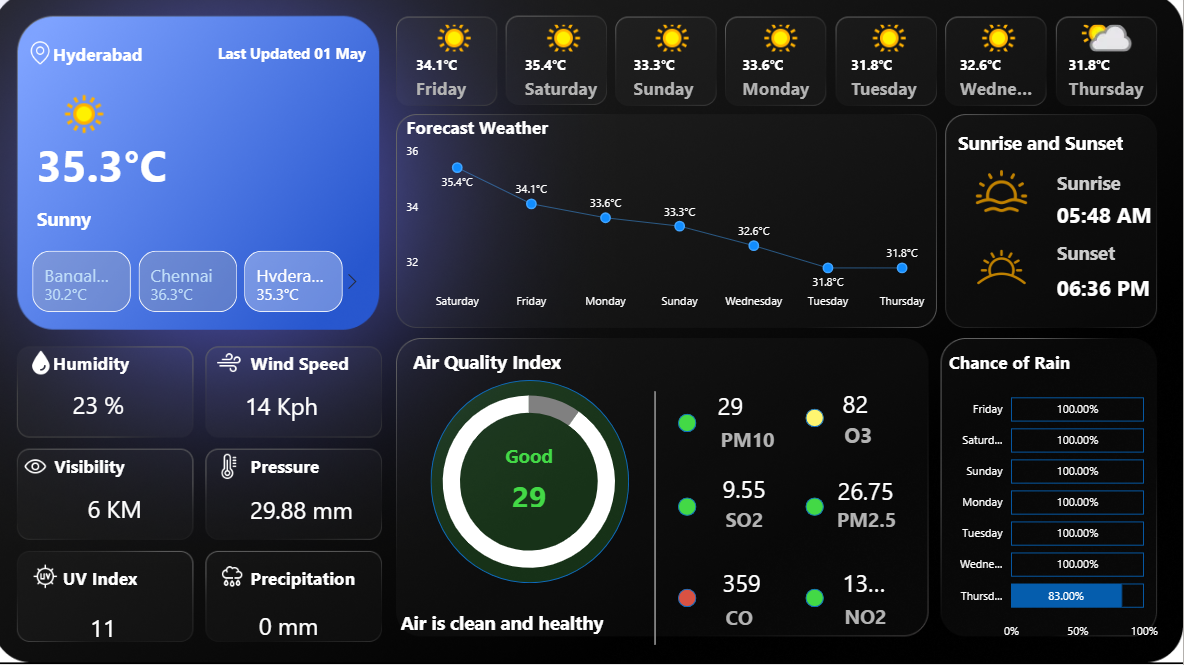

The dashboard page shown, as its layout file describes it:
{"tool":"powerbi","page":{"name":"Page 1","canvas":[1280,720],"ordinal":0},"visuals":[{"type":"advancedSlicerVisual","fields":{"Values":["Locations.location.name"],"Label":["_Measures.Curr_Temp_C"]},"box":[17.8,270.3,384.2,76.8],"z":0},{"type":"shape","box":[46.7,129,212.7,105.7],"z":1000},{"type":"shape","box":[46.7,211.3,391.1,59],"z":2000},{"type":"shape","box":[64.5,39.8,177,45.3],"z":3000},{"type":"shape","box":[241.5,38.4,196.2,45.3],"z":4000},{"type":"image","box":[35.7,49.4,28.8,24.7],"z":5000},{"type":"cardVisual","fields":{"Data":["Min(Current.current.condition.icon)"]},"box":[0,0,196.2,182.5],"z":6000},{"type":"image","box":[26.1,494,39.8,27.4],"z":7000},{"type":"shape","box":[65.9,484.4,196.2,45.3],"z":8000},{"type":"image","box":[35.7,381.5,30.2,27.4],"z":9000},{"type":"shape","box":[64.5,371.9,131.7,45.3],"z":10000},{"type":"image","box":[35.7,612,39.8,27.4],"z":11000},{"type":"image","box":[231.9,494,45.3,27.4],"z":12000},{"type":"image","box":[231.9,381.5,45.3,27.4],"z":13000},{"type":"image","box":[241.5,612,30.2,27.4],"z":14000},{"type":"shape","box":[277.2,371.9,131.7,45.3],"z":15000},{"type":"shape","box":[277.2,484.4,131.7,45.3],"z":16000},{"type":"shape","box":[277.2,603.8,131.7,45.3],"z":17000},{"type":"shape","box":[75.5,603.8,131.7,45.3],"z":18000},{"type":"cardVisual","fields":{"Data":["_Measures.Humidity with symbol"]},"box":[56.8,409.2,139.3,62.5],"z":19000},{"type":"cardVisual","fields":{"Data":["_Measures.Wind_Speed","_Measures.Wind_Speed"]},"box":[241.6,403.6,184.7,75.3],"z":20000},{"type":"cardVisual","fields":{"Data":["_Measures.Pressure with sym"]},"box":[247.4,521.8,172.1,61.9],"z":21000},{"type":"cardVisual","fields":{"Data":["_Measures.precip with sym"]},"box":[256.9,646.9,145.2,61.9],"z":22000},{"type":"cardVisual","fields":{"Data":["_Measures.vis with sym"]},"box":[73.3,519,131.6,64.3],"z":23000},{"type":"cardVisual","fields":{"Data":["Sum(Current.current.uv)"]},"box":[75.3,649.6,149.3,61.9],"z":24000},{"type":"advancedSlicerVisual","fields":{"Values":["Forecast_Day.Day_Name"]},"box":[437.4,25.2,821,104.3],"z":25000},{"type":"lineChart","title":"Forecast Weather","fields":{"Category":["Forecast_Day.Day_Name"],"Y":["Sum(Forecast_Day.forecast.forecastday.day.avgtemp_c)"]},"box":[439.1,129.5,575.4,218.7],"z":26000},{"type":"shape","box":[1038.1,136.3,188.4,45.4],"z":27000},{"type":"shape","box":[1143.9,200.5,116.7,70.7],"z":28000},{"type":"shape","box":[1143.9,282.7,105.2,64.1],"z":29000},{"type":"shape","box":[1143.9,166,116.7,70.7],"z":30000},{"type":"shape","box":[1143.9,244.9,105.2,64.1],"z":31000},{"type":"image","box":[1038.7,182.4,93.7,55.9],"z":32000},{"type":"image","box":[1038.7,258,93.7,69],"z":33000},{"type":"hundredPercentStackedBarChart","title":"Chance of Rain","fields":{"Y":["Sum(Forecast_Day.forecast.forecastday.day.daily_chance_of_rain)","_Measures.Left_value_Rain"],"Category":["Forecast_Day.Day_Name"]},"box":[1023.9,381.3,235,320.5],"z":34000},{"type":"shape","box":[452,371.4,187.4,46],"z":35000},{"type":"shape","box":[915.5,450.3,46,44.4],"z":36000},{"type":"cardVisual","fields":{"Data":["Sum(Current.current.air_quality.pm2_5)"]},"box":[879.3,494.7,128.2,74],"z":37000},{"type":"shape","box":[907.2,540.7,131.5,44.4],"z":38000},{"type":"cardVisual","fields":{"Data":["Sum(Current.current.air_quality.no2)"]},"box":[884.2,595,108.5,74],"z":39000},{"type":"shape","box":[915.5,645.9,131.5,44.4],"z":40000},{"type":"cardVisual","fields":{"Data":["Sum(Current.current.air_quality.o3)"]},"box":[884.2,402.7,118.3,74],"z":41000},{"type":"cardVisual","fields":{"Data":["Sum(Current.current.air_quality.pm10)"]},"box":[750.9,403.9,108.5,74],"z":42000},{"type":"shape","box":[782.1,454.9,131.5,44.4],"z":43000},{"type":"cardVisual","fields":{"Data":["Sum(Current.current.air_quality.so2)"]},"box":[756,493.1,133.1,74],"z":44000},{"type":"shape","box":[787.4,540.2,131.5,44.4],"z":45000},{"type":"cardVisual","fields":{"Data":["Sum(Current.current.air_quality.co)"]},"box":[756,595,157.8,74],"z":46000},{"type":"shape","box":[787.4,646.7,131.5,44.4],"z":47000},{"type":"shape","box":[736.3,450.3,19.7,19.7],"z":48000},{"type":"shape","box":[736.3,540.7,19.7,19.7],"z":49000},{"type":"shape","box":[736.3,639.3,19.7,19.7],"z":50000},{"type":"shape","box":[874.4,445.4,19.7,19.7],"z":51000},{"type":"shape","box":[874.4,540.7,19.7,19.7],"z":52000},{"type":"shape","box":[874.4,639.3,19.7,19.7],"z":53000},{"type":"shape","box":[618,425.7,187.4,272.8],"z":54000},{"type":"cardVisual","fields":{"Data":["Sum(Current.current.air_quality.pm10)"]},"box":[514.4,481.6,123.3,87.1],"z":55000},{"type":"shape","box":[470.1,414.2,213.7,218.6],"z":56000},{"type":"donutChart","fields":{"Y":["Sum(Current.current.air_quality.pm10)","_Measures.Left_value_PM10"]},"box":[455.3,397.7,241.6,251.5],"z":57000},{"type":"shape","box":[438.8,639.3,272.8,72.3],"z":58000}]}

Visuals, with their boxes in screenshot pixels (x1, y1, x2, y2), scaled from the page's 1280x720 canvas onto the 1184x665 screenshot:
advancedSlicerVisual - Locations.location.name x _Measures.Curr_Temp_C: select_region(16, 250, 372, 321)
shape: select_region(43, 119, 240, 217)
shape: select_region(43, 195, 405, 250)
shape: select_region(60, 37, 223, 79)
shape: select_region(223, 35, 405, 77)
image: select_region(33, 46, 60, 68)
cardVisual - Min(Current.current.condition.icon): select_region(0, 0, 181, 169)
image: select_region(24, 456, 61, 482)
shape: select_region(61, 447, 242, 489)
image: select_region(33, 352, 61, 378)
shape: select_region(60, 343, 181, 385)
image: select_region(33, 565, 70, 591)
image: select_region(215, 456, 256, 482)
image: select_region(215, 352, 256, 378)
image: select_region(223, 565, 251, 591)
shape: select_region(256, 343, 378, 385)
shape: select_region(256, 447, 378, 489)
shape: select_region(256, 558, 378, 600)
shape: select_region(70, 558, 192, 600)
cardVisual - _Measures.Humidity with symbol: select_region(53, 378, 181, 436)
cardVisual - _Measures.Wind_Speed x _Measures.Wind_Speed: select_region(223, 373, 394, 442)
cardVisual - _Measures.Pressure with sym: select_region(229, 482, 388, 539)
cardVisual - _Measures.precip with sym: select_region(238, 597, 372, 655)
cardVisual - _Measures.vis with sym: select_region(68, 479, 190, 539)
cardVisual - Sum(Current.current.uv): select_region(70, 600, 208, 657)
advancedSlicerVisual - Forecast_Day.Day_Name: select_region(405, 23, 1164, 120)
"Forecast Weather" lineChart: select_region(406, 120, 938, 322)
shape: select_region(960, 126, 1135, 168)
shape: select_region(1058, 185, 1166, 250)
shape: select_region(1058, 261, 1155, 320)
shape: select_region(1058, 153, 1166, 219)
shape: select_region(1058, 226, 1155, 285)
image: select_region(961, 168, 1047, 220)
image: select_region(961, 238, 1047, 302)
"Chance of Rain" hundredPercentStackedBarChart: select_region(947, 352, 1164, 648)
shape: select_region(418, 343, 591, 386)
shape: select_region(847, 416, 889, 457)
cardVisual - Sum(Current.current.air_quality.pm2_5): select_region(813, 457, 932, 525)
shape: select_region(839, 499, 961, 540)
cardVisual - Sum(Current.current.air_quality.no2): select_region(818, 550, 918, 618)
shape: select_region(847, 597, 968, 638)
cardVisual - Sum(Current.current.air_quality.o3): select_region(818, 372, 927, 440)
cardVisual - Sum(Current.current.air_quality.pm10): select_region(695, 373, 795, 441)
shape: select_region(723, 420, 845, 461)
cardVisual - Sum(Current.current.air_quality.so2): select_region(699, 455, 822, 524)
shape: select_region(728, 499, 850, 540)
cardVisual - Sum(Current.current.air_quality.co): select_region(699, 550, 845, 618)
shape: select_region(728, 597, 850, 638)
shape: select_region(681, 416, 699, 434)
shape: select_region(681, 499, 699, 518)
shape: select_region(681, 590, 699, 609)
shape: select_region(809, 411, 827, 430)
shape: select_region(809, 499, 827, 518)
shape: select_region(809, 590, 827, 609)
shape: select_region(572, 393, 745, 645)
cardVisual - Sum(Current.current.air_quality.pm10): select_region(476, 445, 590, 525)
shape: select_region(435, 383, 633, 584)
donutChart - Sum(Current.current.air_quality.pm10) x _Measures.Left_value_PM10: select_region(421, 367, 645, 600)
shape: select_region(406, 590, 658, 657)
